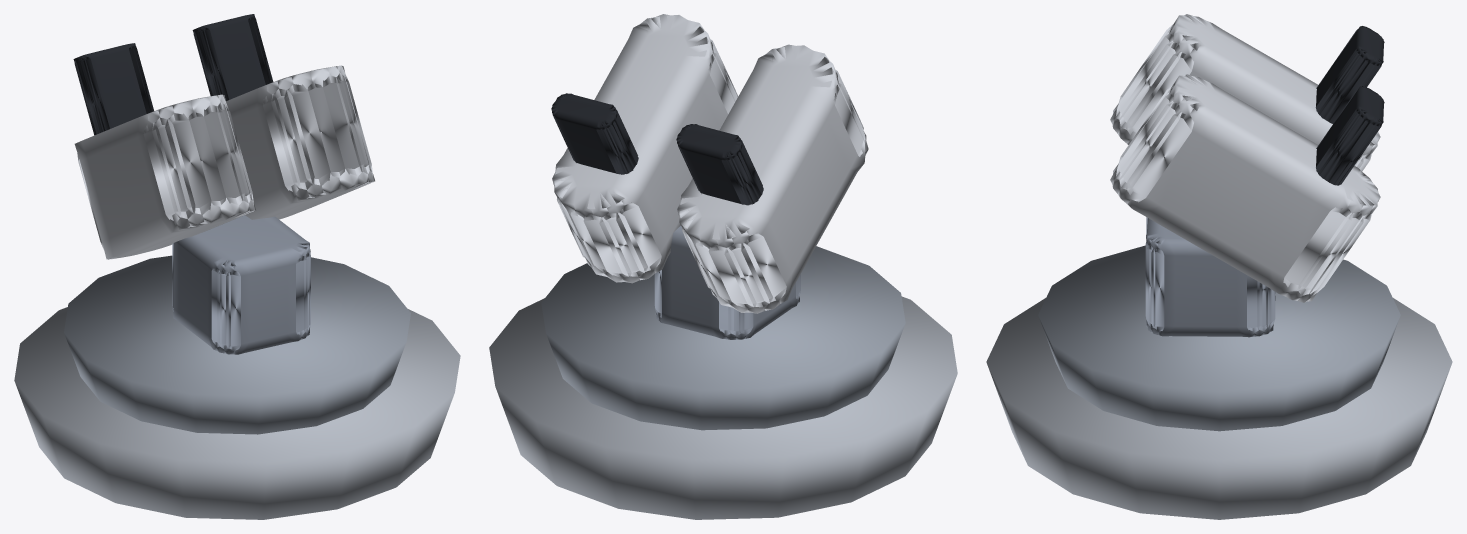
Rendered from b_missile_turret.glb.
3 views of the same model, side by side, from view 1: azimuth 30°, elevation 25°; view 2: azimuth 150°, elevation 25°; view 3: azimuth 270°, elevation 25° (orthographic). The views are drawn at different scales.
Visible parts, largest first — view 1: mt_base.001, mt_base2.001, mt_pod-1.001, mt_neck.001, mt_pod1.001, mt_mouth-1.001, mt_mouth1.001; view 2: mt_base.001, mt_base2.001, mt_pod-1.001, mt_pod1.001, mt_neck.001, mt_mouth1.001, mt_mouth-1.001; view 3: mt_base.001, mt_base2.001, mt_pod1.001, mt_pod-1.001, mt_neck.001, mt_mouth1.001, mt_mouth-1.001.
Boxes of the visible parts, x1=… form: mt_base.001: x1=14, y1=307, x2=460, y2=519; mt_base2.001: x1=64, y1=255, x2=410, y2=434; mt_pod-1.001: x1=74, y1=94, x2=255, y2=259; mt_neck.001: x1=172, y1=215, x2=310, y2=354; mt_pod1.001: x1=226, y1=65, x2=374, y2=219; mt_mouth-1.001: x1=73, y1=43, x2=153, y2=135; mt_mouth1.001: x1=192, y1=14, x2=273, y2=100; mt_base.001: x1=489, y1=296, x2=957, y2=519; mt_base2.001: x1=541, y1=246, x2=905, y2=430; mt_pod-1.001: x1=677, y1=44, x2=868, y2=313; mt_pod1.001: x1=552, y1=14, x2=738, y2=283; mt_neck.001: x1=654, y1=226, x2=800, y2=339; mt_mouth1.001: x1=551, y1=93, x2=638, y2=174; mt_mouth-1.001: x1=676, y1=124, x2=763, y2=205; mt_base.001: x1=986, y1=298, x2=1452, y2=519; mt_base2.001: x1=1038, y1=245, x2=1400, y2=431; mt_pod1.001: x1=1110, y1=74, x2=1380, y2=302; mt_pod-1.001: x1=1110, y1=14, x2=1380, y2=171; mt_neck.001: x1=1145, y1=217, x2=1275, y2=337; mt_mouth1.001: x1=1316, y1=86, x2=1384, y2=185; mt_mouth-1.001: x1=1315, y1=26, x2=1384, y2=123.
Size of the model in its own units: 1.08 by 0.9703 by 1.08.
